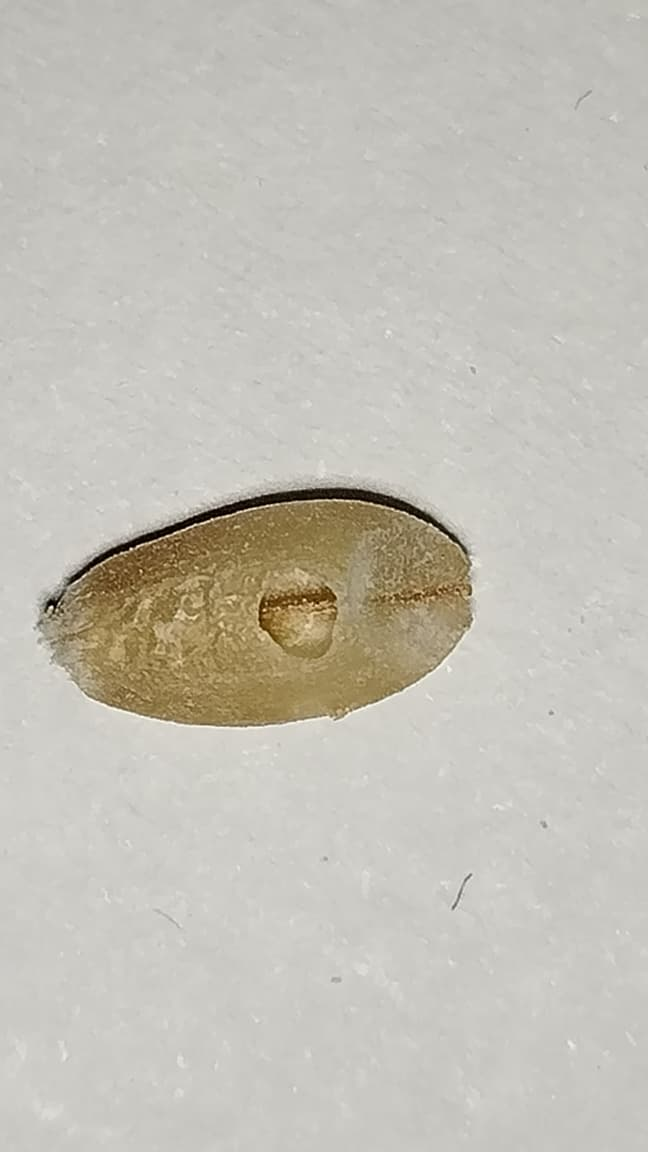damage: (39, 496, 470, 725)
insectdamage: (348, 513, 478, 666), (241, 557, 345, 665)
